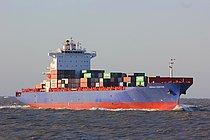Ship: (12, 33, 199, 113)
